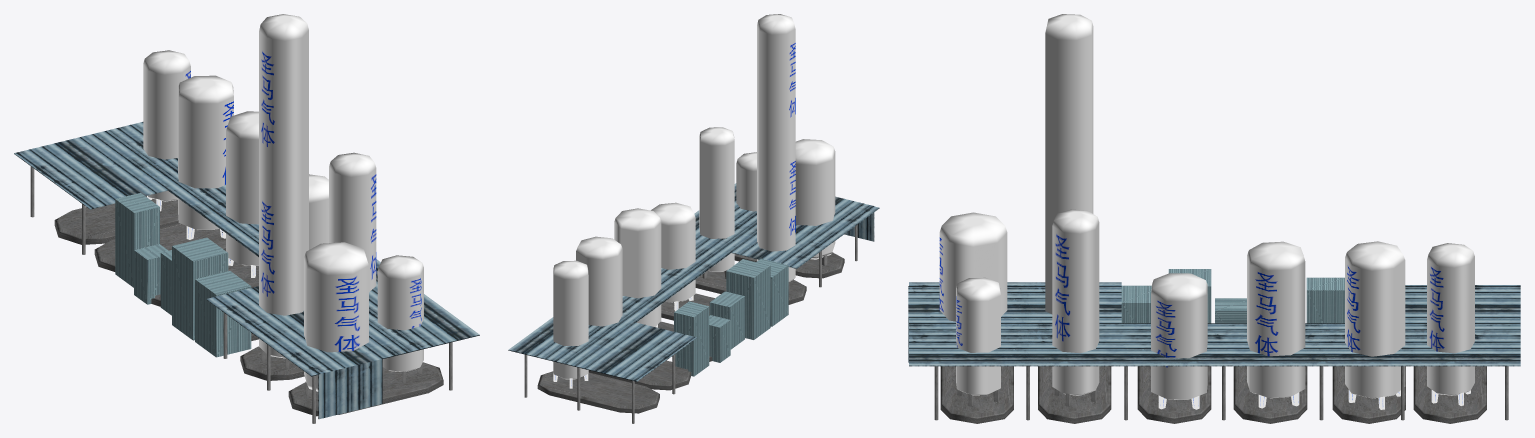
File: changfang05.gltf
3 views of the same model, side by side, from view 1: azimuth 30°, elevation 25°; view 2: azimuth 150°, elevation 25°; view 3: azimuth 270°, elevation 25° (orthographic). The views are drawn at different scales.
Visible parts, largest first — view 1: changfang05_101, changfang05_96, changfang05_63, changfang05_78, changfang05_57, changfang05_88, changfang05_86, changfang05_61, changfang05_59, changfang05_60, changfang05_102, changfang05_99 (+8 smaller); view 2: changfang05_101, changfang05_96, changfang05_57, changfang05_86, changfang05_63, changfang05_88, changfang05_78, changfang05_91, changfang05_56, changfang05_59, changfang05_99, changfang05_58 (+8 smaller); view 3: changfang05_101, changfang05_96, changfang05_78, changfang05_86, changfang05_57, changfang05_56, changfang05_88, changfang05_63, changfang05_61, changfang05_87, changfang05_82, changfang05_91 (+6 smaller).
Part boxes in pixels (x1,y1,x2,y2): changfang05_101: [14, 122, 479, 376]; changfang05_96: [259, 14, 308, 358]; changfang05_63: [304, 242, 368, 391]; changfang05_78: [178, 75, 233, 239]; changfang05_57: [329, 152, 376, 291]; changfang05_88: [143, 50, 190, 211]; changfang05_86: [226, 111, 258, 277]; changfang05_61: [377, 255, 423, 371]; changfang05_59: [172, 237, 228, 340]; changfang05_60: [195, 271, 251, 357]; changfang05_102: [318, 358, 382, 419]; changfang05_99: [115, 193, 159, 287]; changfang05_101: [508, 183, 879, 381]; changfang05_96: [757, 14, 795, 281]; changfang05_57: [699, 127, 734, 271]; changfang05_86: [614, 208, 661, 327]; changfang05_63: [795, 139, 835, 259]; changfang05_88: [553, 260, 588, 388]; changfang05_78: [576, 236, 622, 326]; changfang05_91: [537, 371, 659, 413]; changfang05_56: [651, 202, 695, 311]; changfang05_59: [726, 259, 770, 339]; changfang05_99: [674, 301, 709, 376]; changfang05_58: [709, 291, 744, 349]; changfang05_101: [909, 282, 1520, 366]; changfang05_96: [1045, 14, 1093, 314]; changfang05_78: [1345, 241, 1405, 409]; changfang05_86: [1247, 241, 1305, 408]; changfang05_57: [1052, 209, 1099, 395]; changfang05_56: [1151, 273, 1207, 409]; changfang05_88: [1427, 243, 1474, 405]; changfang05_63: [939, 212, 1007, 321]; changfang05_61: [956, 277, 1000, 395]; changfang05_87: [940, 366, 1013, 423]; changfang05_82: [1038, 366, 1111, 423]; changfang05_91: [1413, 366, 1486, 423].
Bounding box in the file's own units: 129 × 254 × 402.
5 materials, 5 textured.
